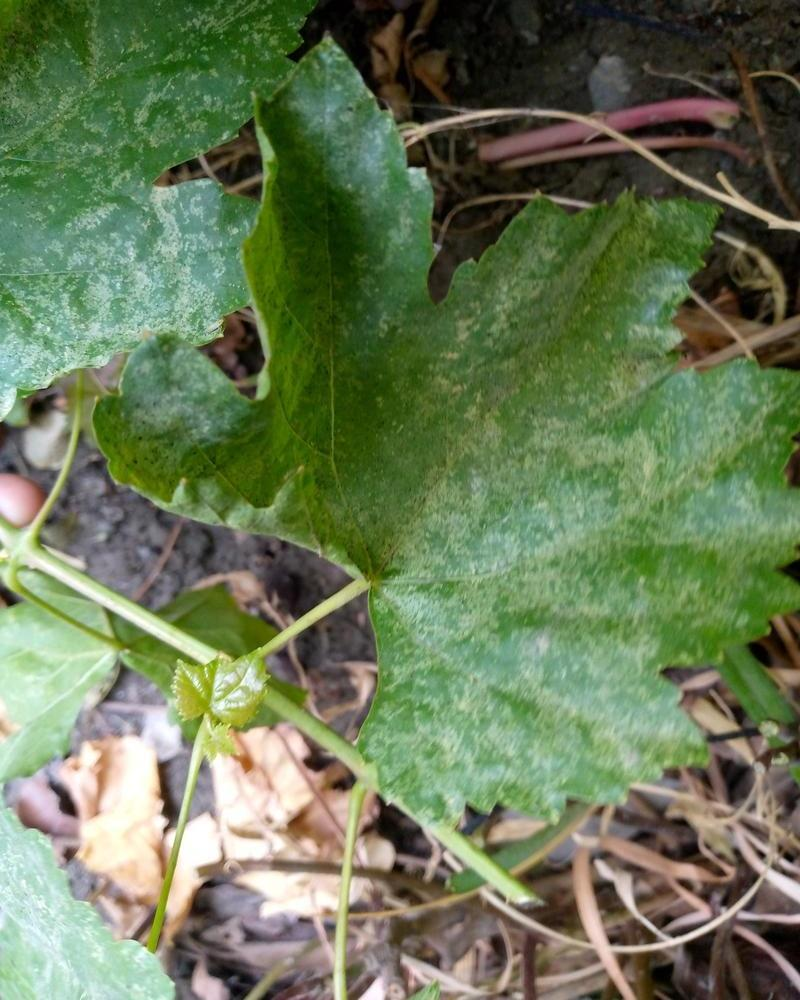Powdery-Mildew: (405, 261, 790, 591), (424, 634, 699, 815), (271, 52, 422, 222), (117, 335, 242, 439), (373, 581, 516, 666), (170, 460, 306, 540), (540, 720, 551, 741)
